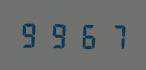nine: (18, 19, 44, 49), (45, 19, 71, 49)
seven: (99, 20, 125, 50)
six: (72, 19, 98, 50)
